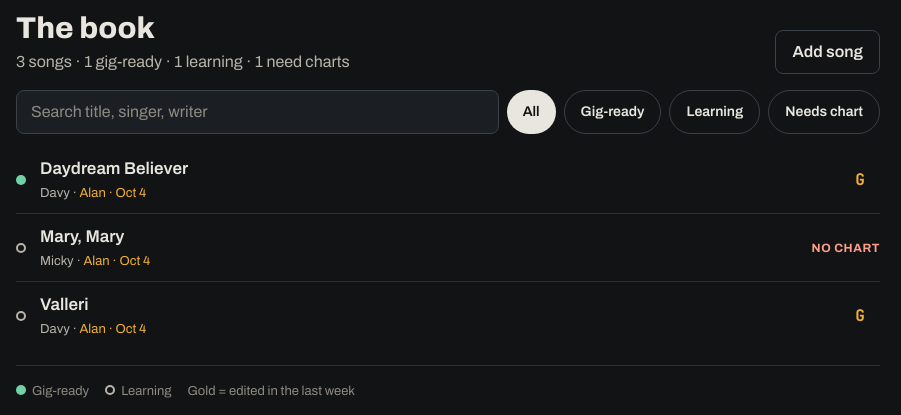
Test: SongLibrary › filters to gig-ready and to songs needing a chart
The image size is (901, 415).
Click the button "Gig-ready" at (612, 112), box [564,90,661,134]
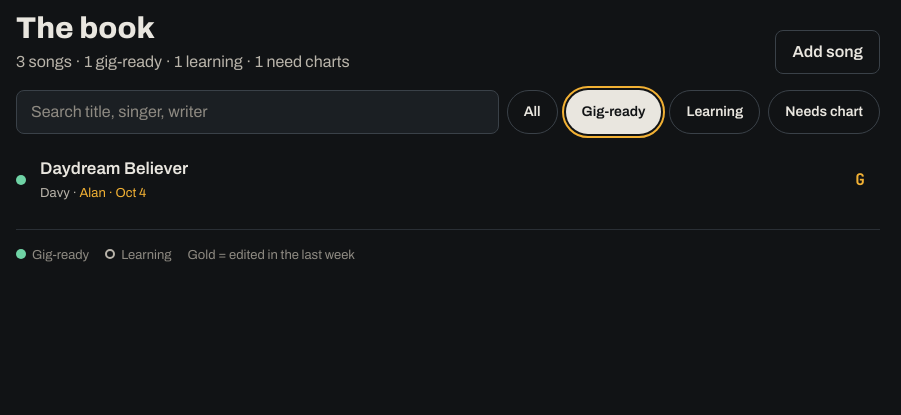
Check: the number of list items is 1, box [16,146,880,213]
Click the button "Needs chart" at (824, 112), box [768,90,880,134]
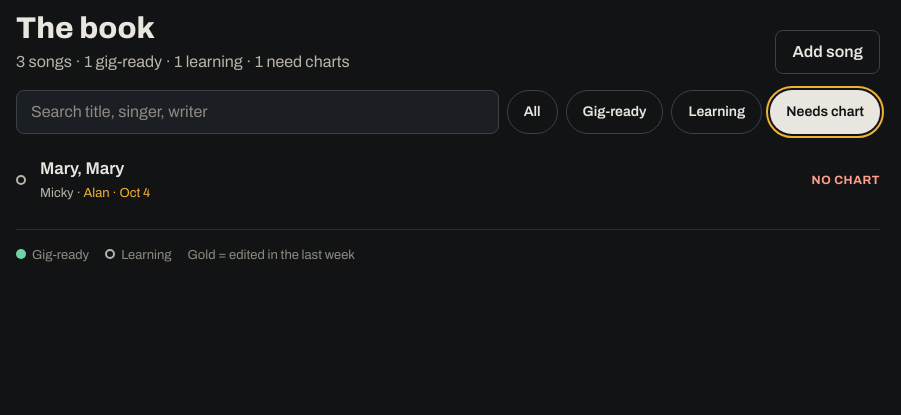
Check: the link "Valleri" is not shown
Check: the text "Mary, Mary" is shown, box [40,159,124,178]
